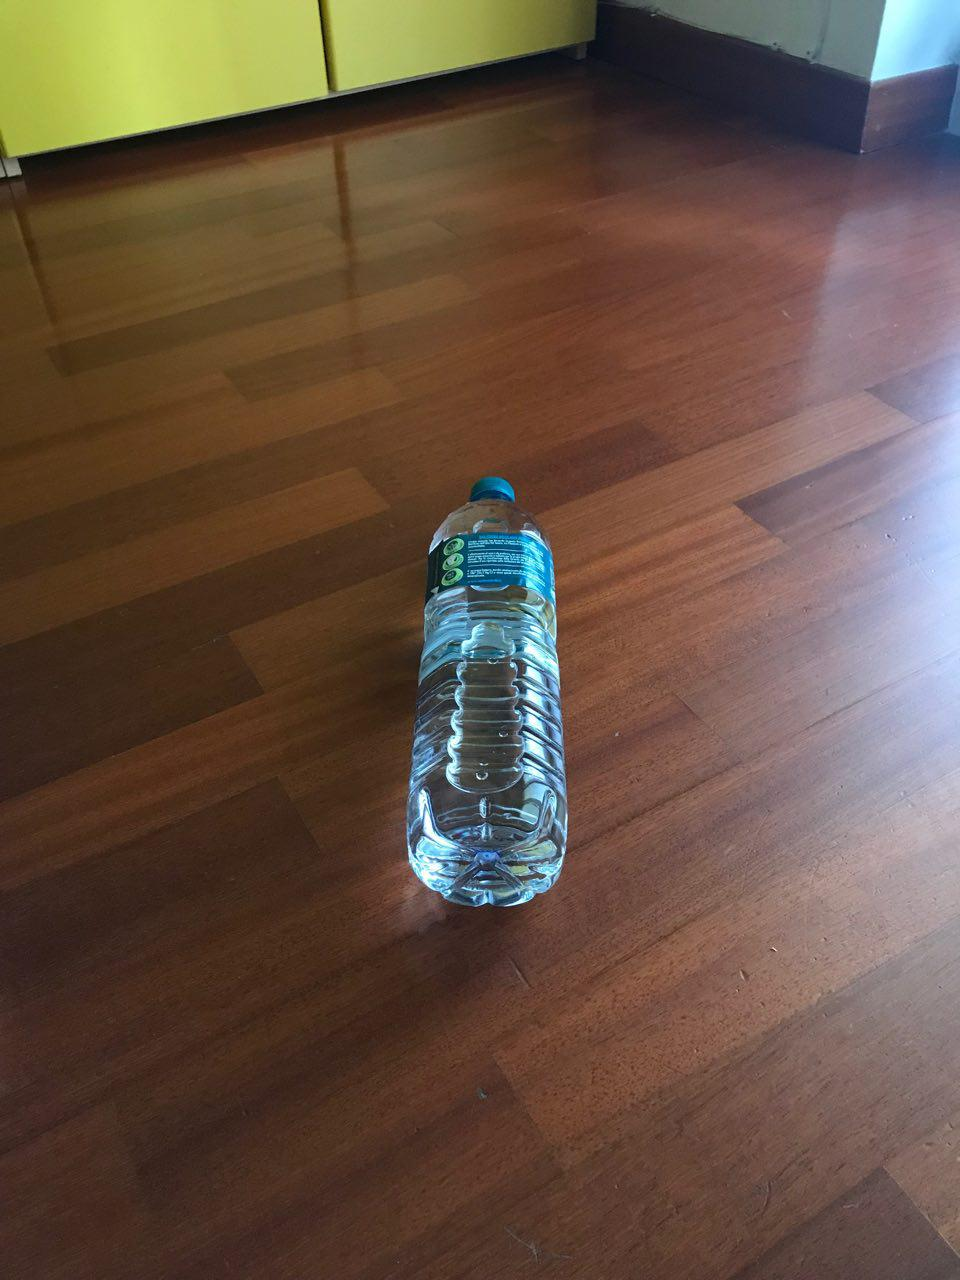san_bernardo: (402, 474, 571, 910)
